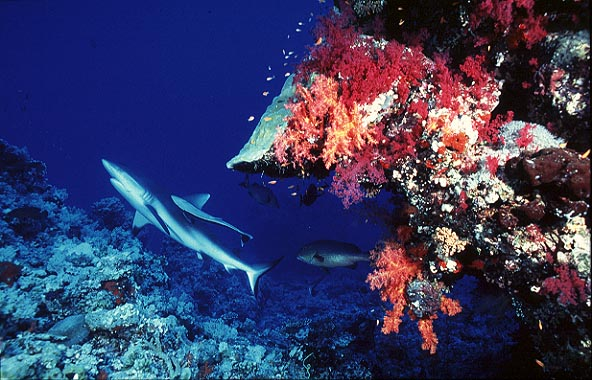Carcharhinus_amblyrhynchos: (91, 152, 282, 301)
